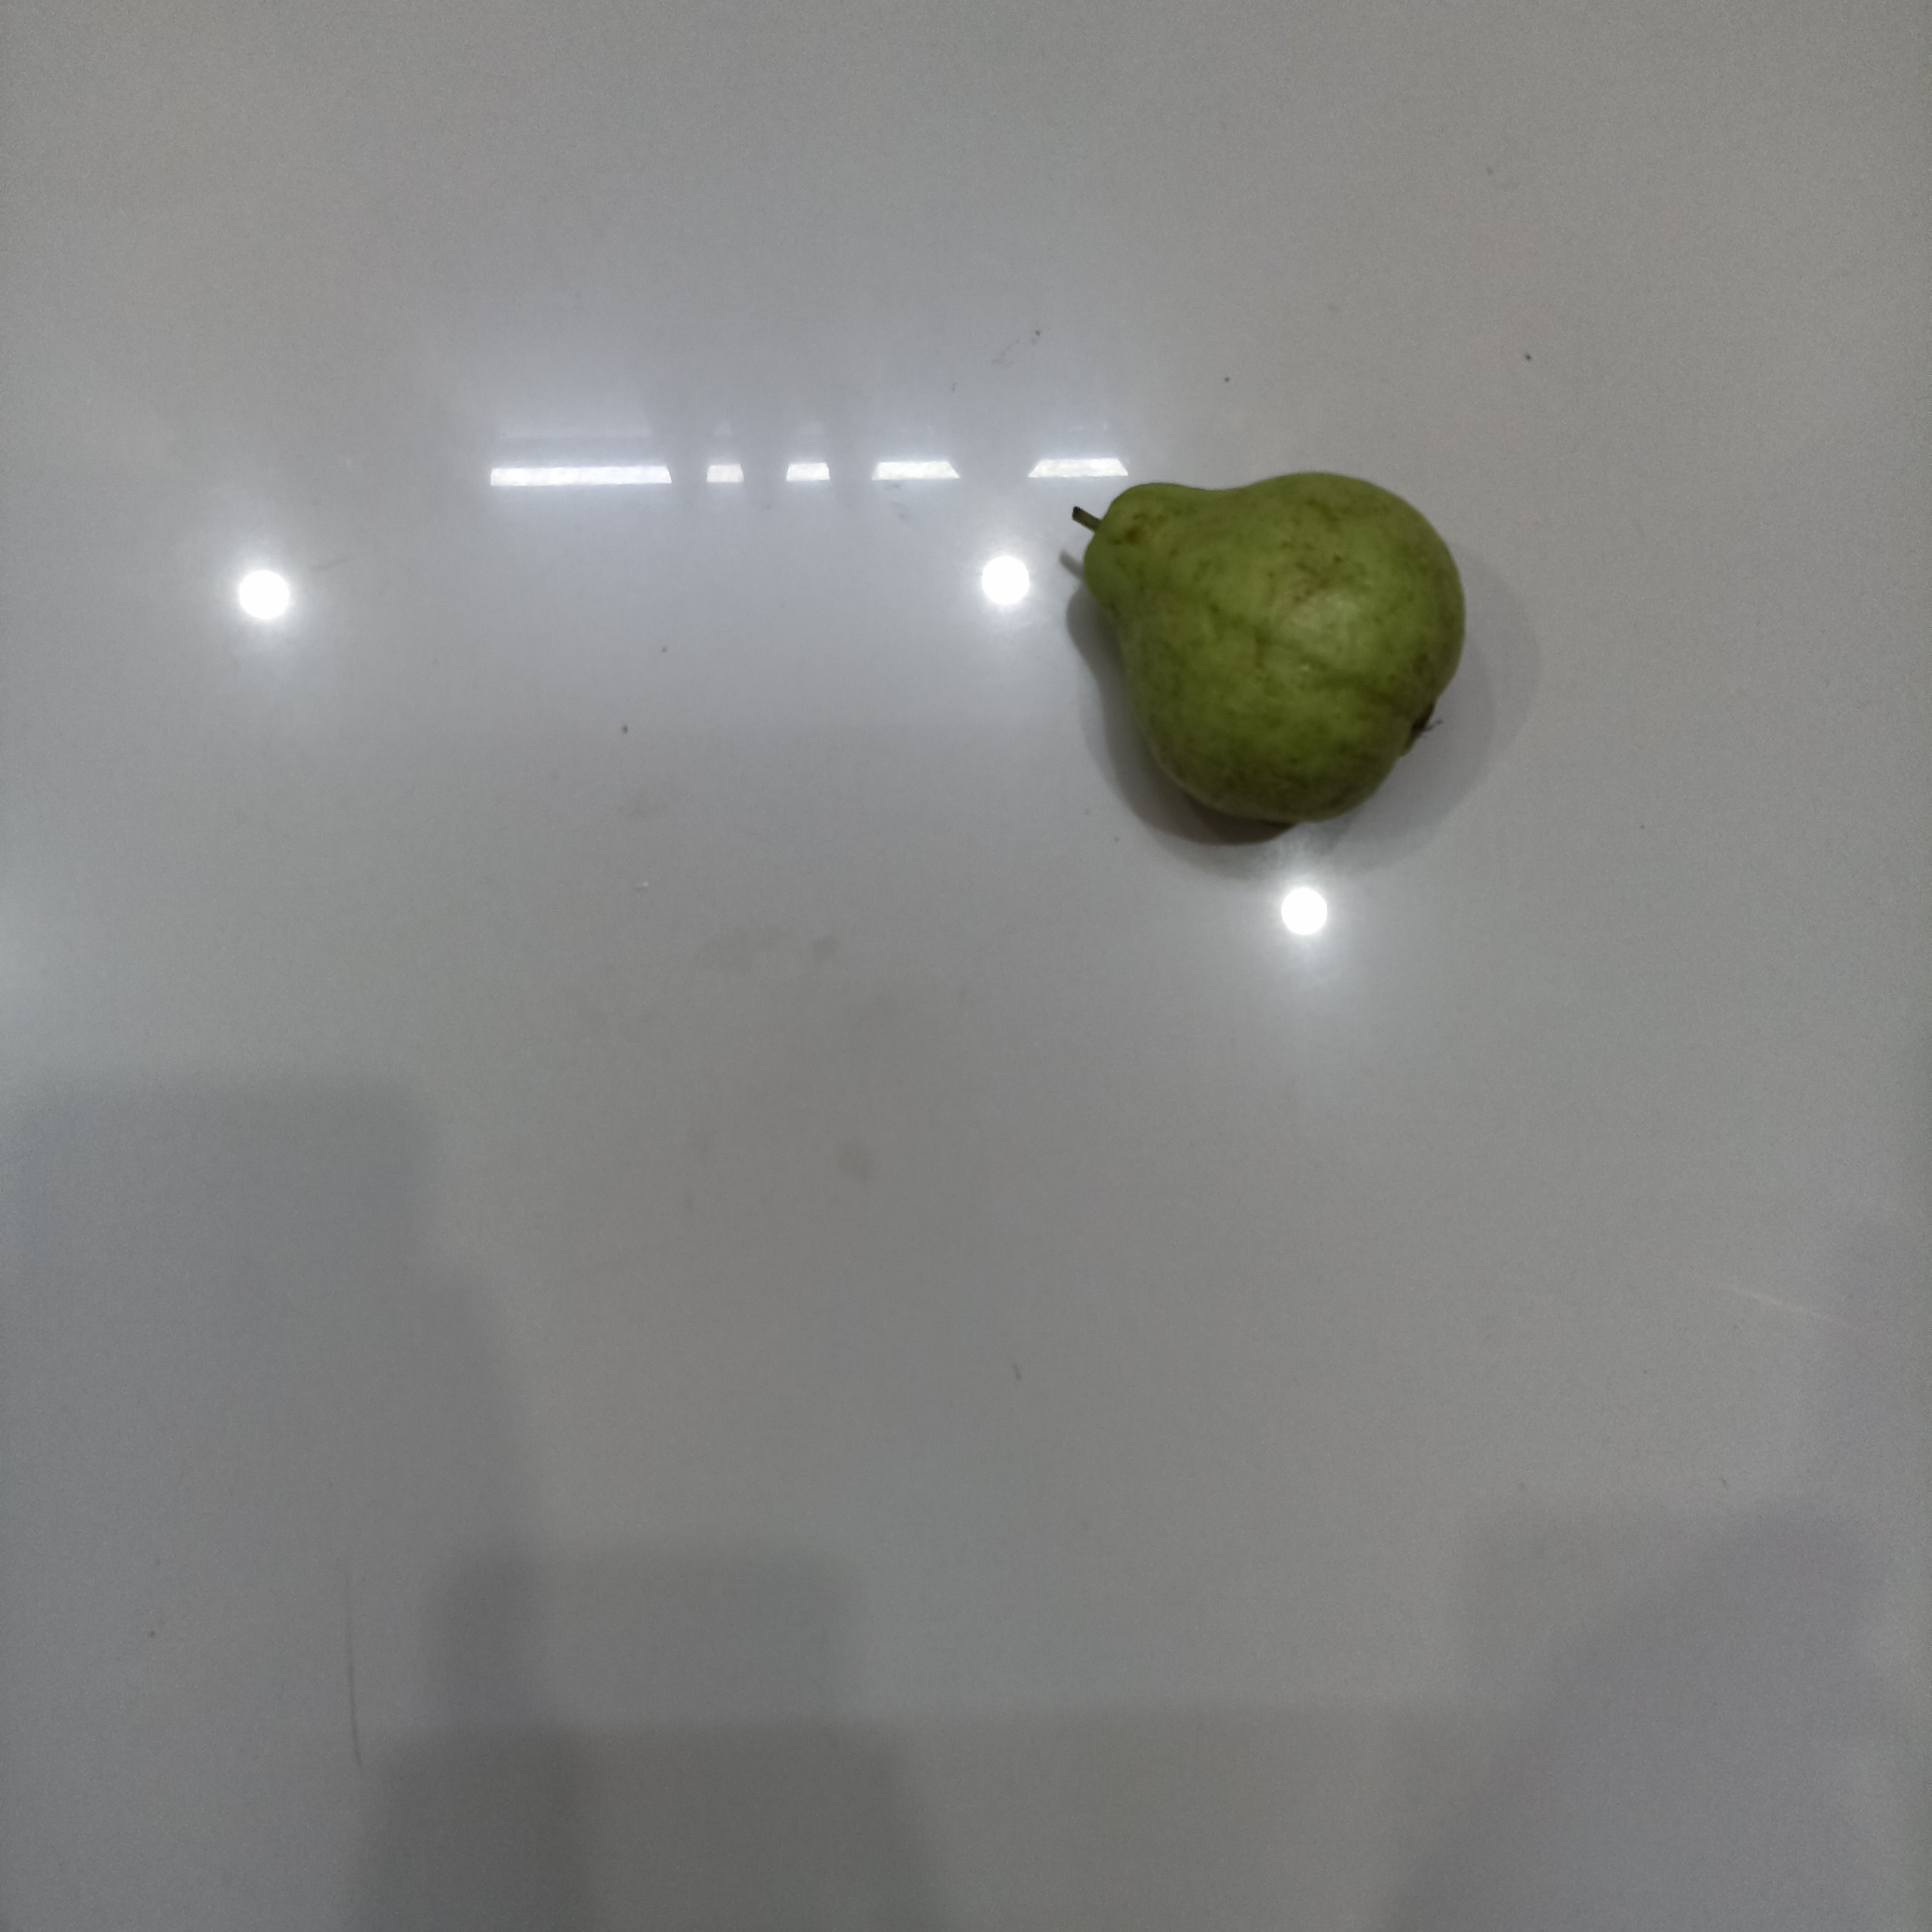Oi: (1062, 467, 1465, 835)
